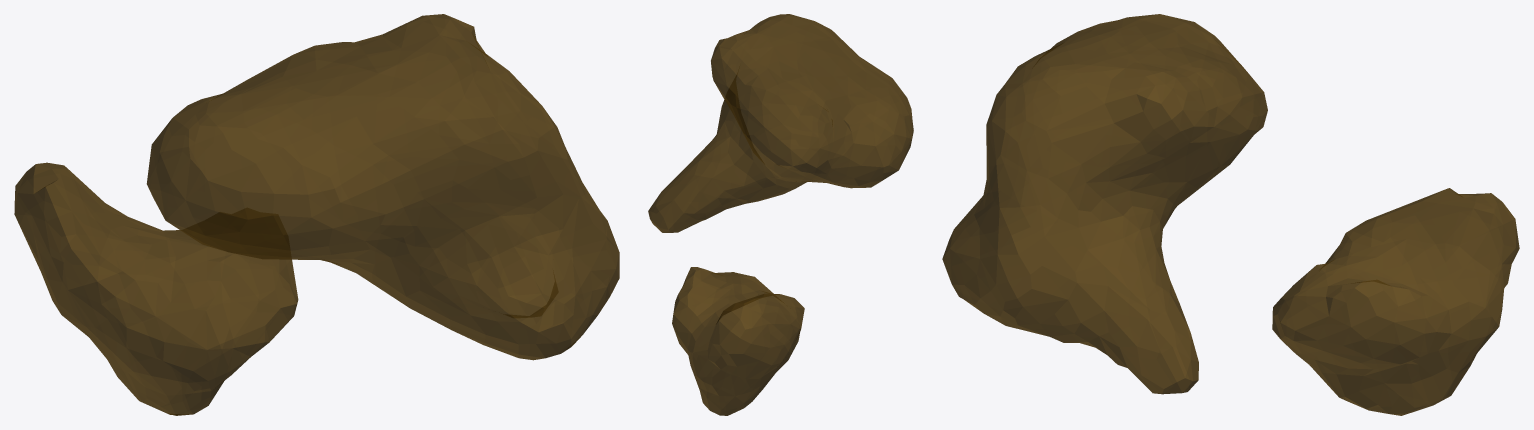
File: AngelsDust6.glb
3 views of the same model, side by side, from view 1: azimuth 30°, elevation 25°; view 2: azimuth 150°, elevation 25°; view 3: azimuth 270°, elevation 25° (orthographic). The views are drawn at different scales.
Parts seen in each view (by area): view 1: AngelsDust6; view 2: AngelsDust6; view 3: AngelsDust6.
Boxes of the visible parts, x1=… form: AngelsDust6: x1=14, y1=14, x2=619, y2=415; AngelsDust6: x1=648, y1=14, x2=913, y2=415; AngelsDust6: x1=942, y1=14, x2=1519, y2=415.
Bounding box in the file's own units: 86.69 × 96.48 × 128.
